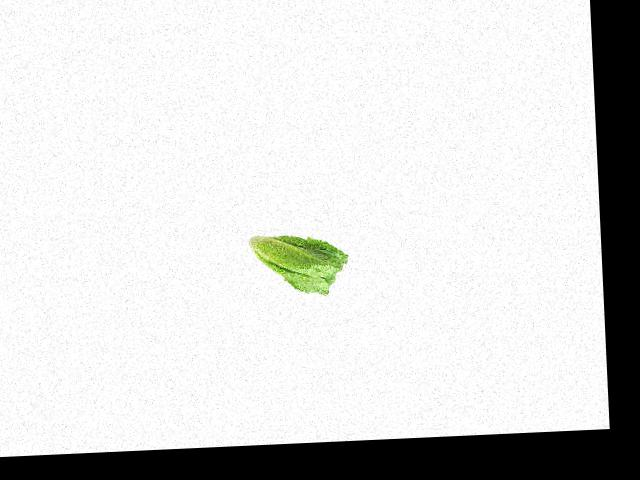lettuce: (239, 230, 350, 299)
